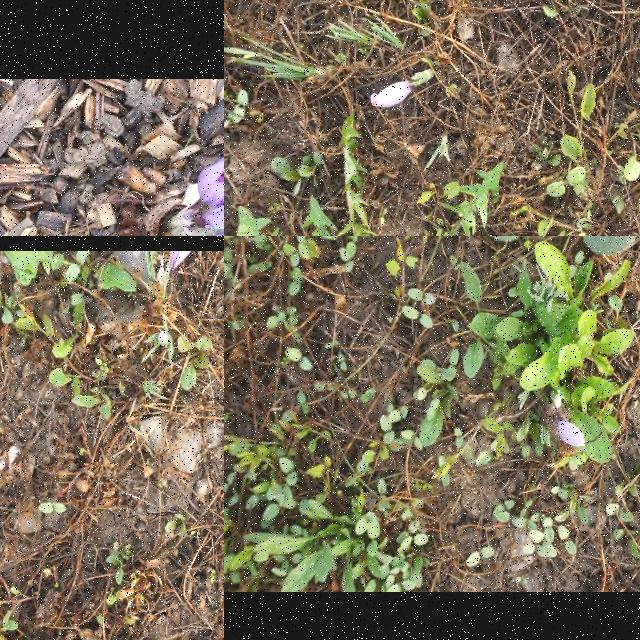flower: (198, 155, 224, 207), (372, 79, 414, 107), (558, 420, 586, 448)
